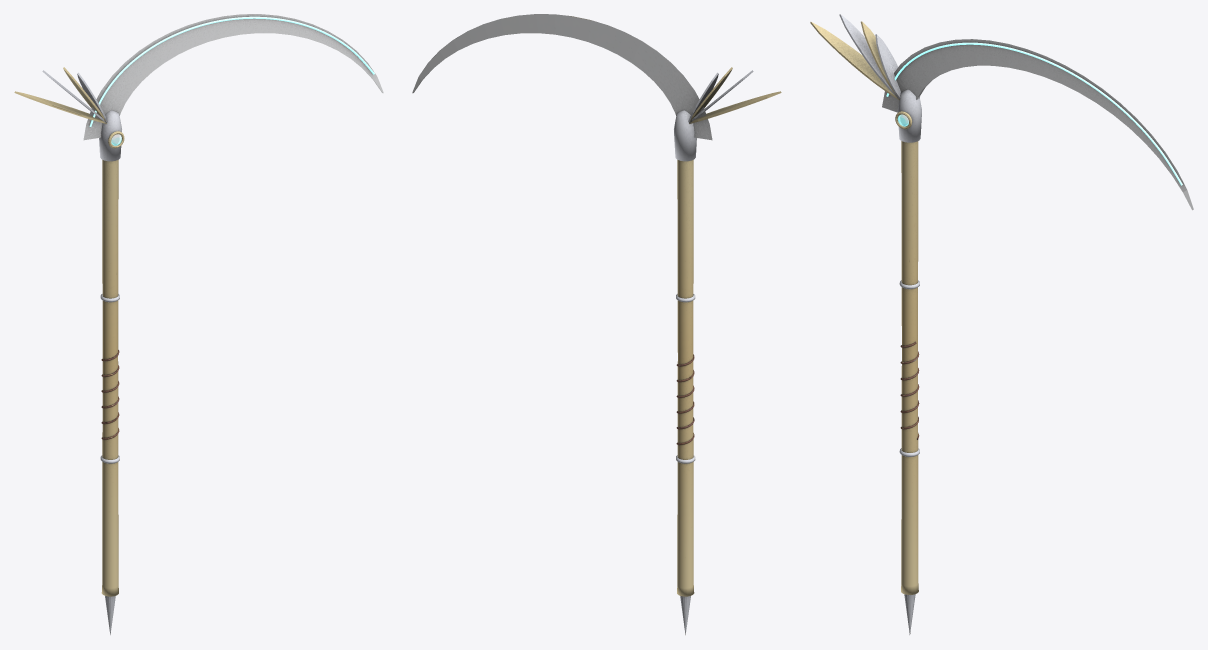
Rendered from arma_lend_foice_sagrado.glb.
3 views of the same model, side by side, from view 1: azimuth 30°, elevation 25°; view 2: azimuth 150°, elevation 25°; view 3: azimuth 330°, elevation 25° (orthographic). The views are drawn at different scales.
Visible parts, largest first — view 1: arma_lend_foice_sagrado, gume; view 2: arma_lend_foice_sagrado; view 3: arma_lend_foice_sagrado, gume.
Boxes of the visible parts, left/top/right/bottom form: arma_lend_foice_sagrado: left=14, top=14, right=383, bottom=634; gume: left=89, top=16, right=374, bottom=126; arma_lend_foice_sagrado: left=412, top=14, right=781, bottom=634; arma_lend_foice_sagrado: left=810, top=14, right=1193, bottom=634; gume: left=886, top=42, right=1182, bottom=185.
Size of the model in its own units: 1.44 by 2.2 by 0.0873.
Materials: 3 (1 with a texture image).
